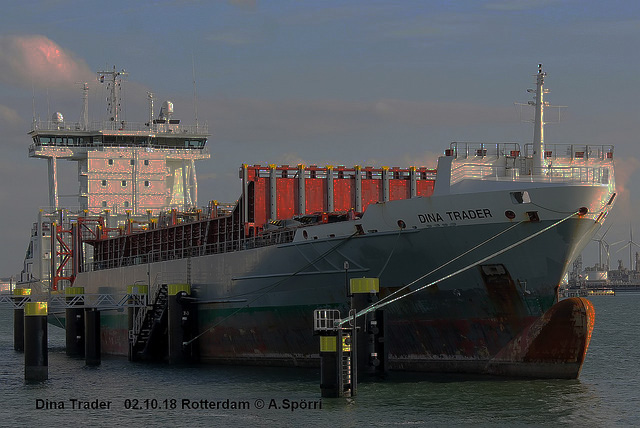container_ship: (32, 66, 602, 384)
